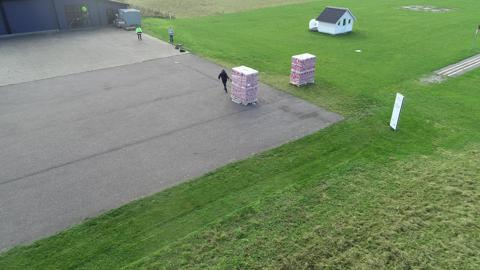RockwoolPallet: (229, 65, 262, 105)
